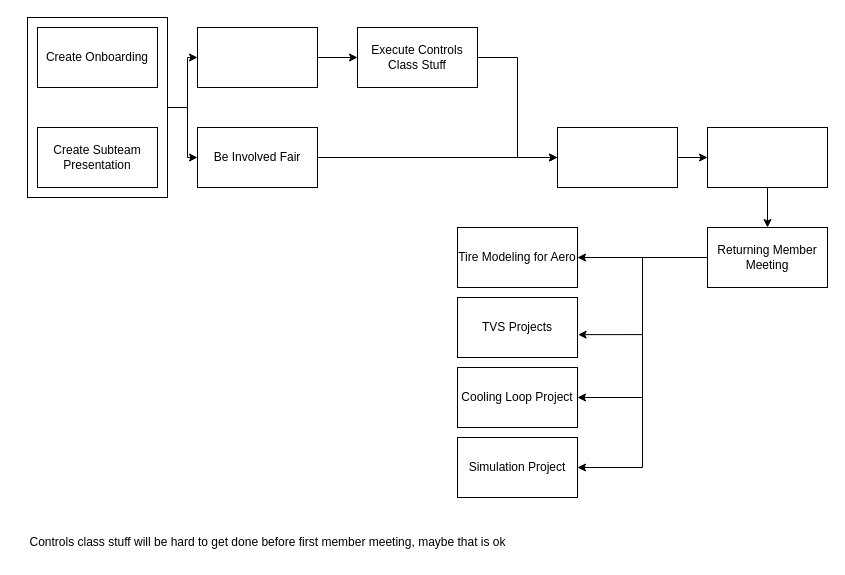
Image size: 845x575. Some labels were removed from this diagram. Each missing label, with the box of its shape:
First Member Meeting: (556, 126, 678, 188)
Onboarding: (706, 126, 828, 188)
Setup Controls Class stuff: (196, 26, 318, 88)
